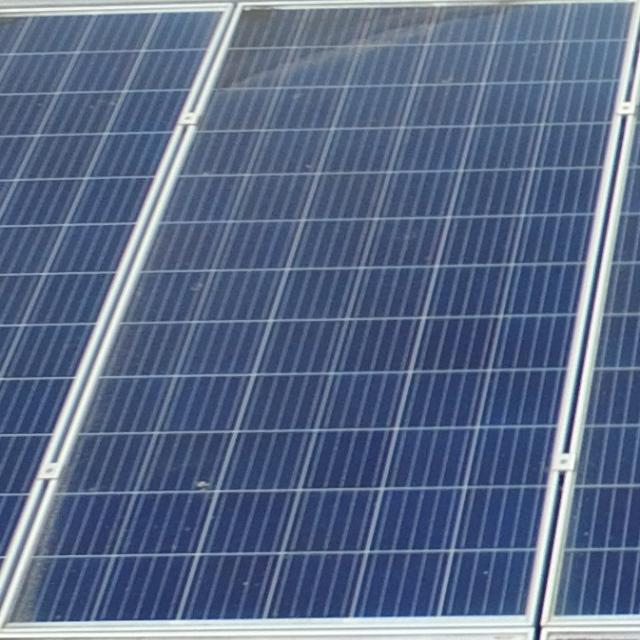Dust: (206, 0, 560, 116)
bird-droppings: (183, 470, 223, 494)
